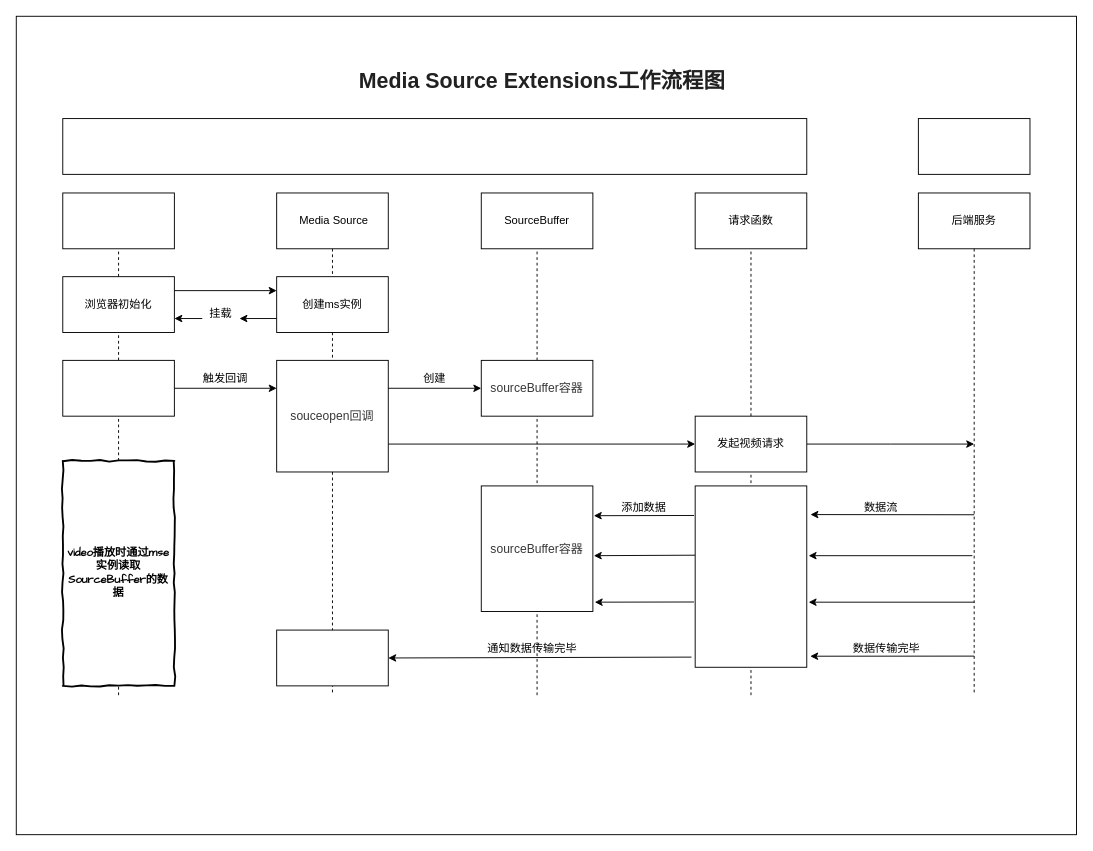
This 1093x851 diagram has some shape labels left out. The centre of each missing label's shape, as x and y in pixels:
mse实例已附加到媒体元素准备接收数据: the point at 118,387
回调函数: the point at 750,576
服务端: the point at 973,146
浏览器内部: the point at 118,220
浏览器端: the point at 434,146
调用endOfStream结束数据流传输: the point at 332,657
